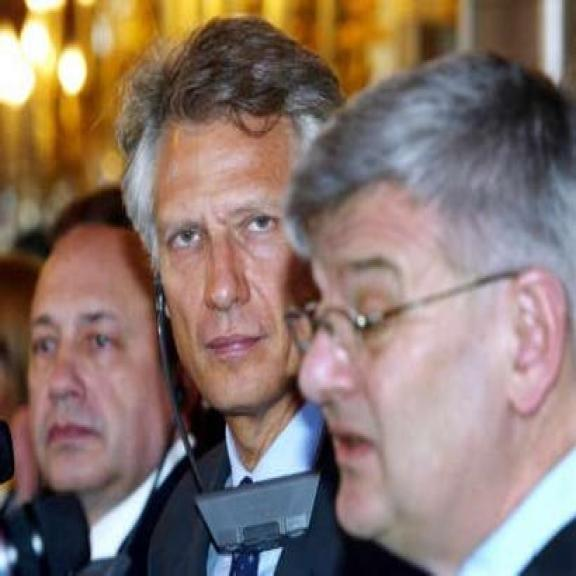face: (291, 187, 567, 551), (145, 114, 300, 420), (25, 232, 164, 499)
